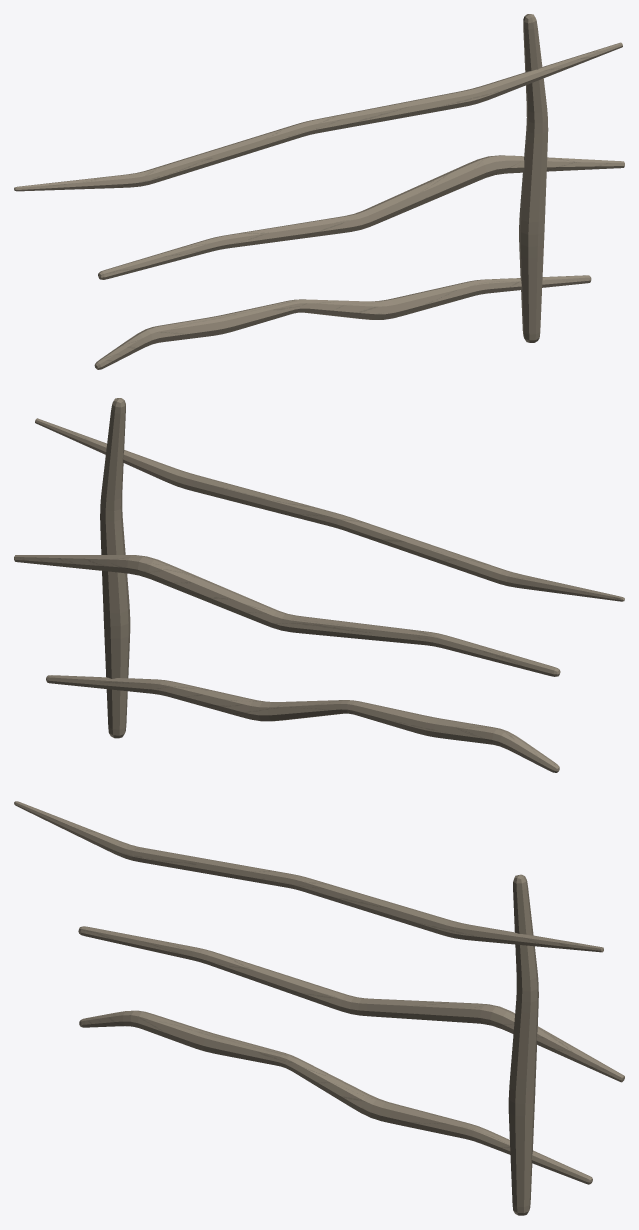
File: valla parcial 1.fbx
The picture shows the model from 3 angles, top to bottom: view 1: azimuth 30°, elevation 25°; view 2: azimuth 150°, elevation 25°; view 3: azimuth 330°, elevation 25°; orthographic projection. The views are drawn at different scales.
Visible parts, largest first — view 1: Vert.049; view 2: Vert.049; view 3: Vert.049.
Boxes of the visible parts, x1,y1,x2,y2 form: Vert.049: (14, 14, 624, 369); Vert.049: (14, 398, 624, 772); Vert.049: (14, 801, 624, 1215).
Bounding box in the file's own units: 954 × 499 × 60.12.
